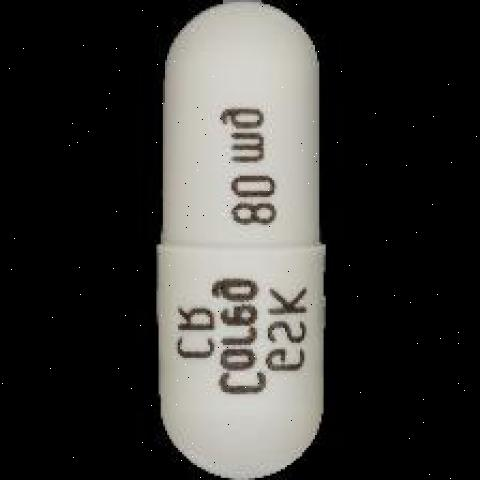Pill: (147, 0, 387, 479)
